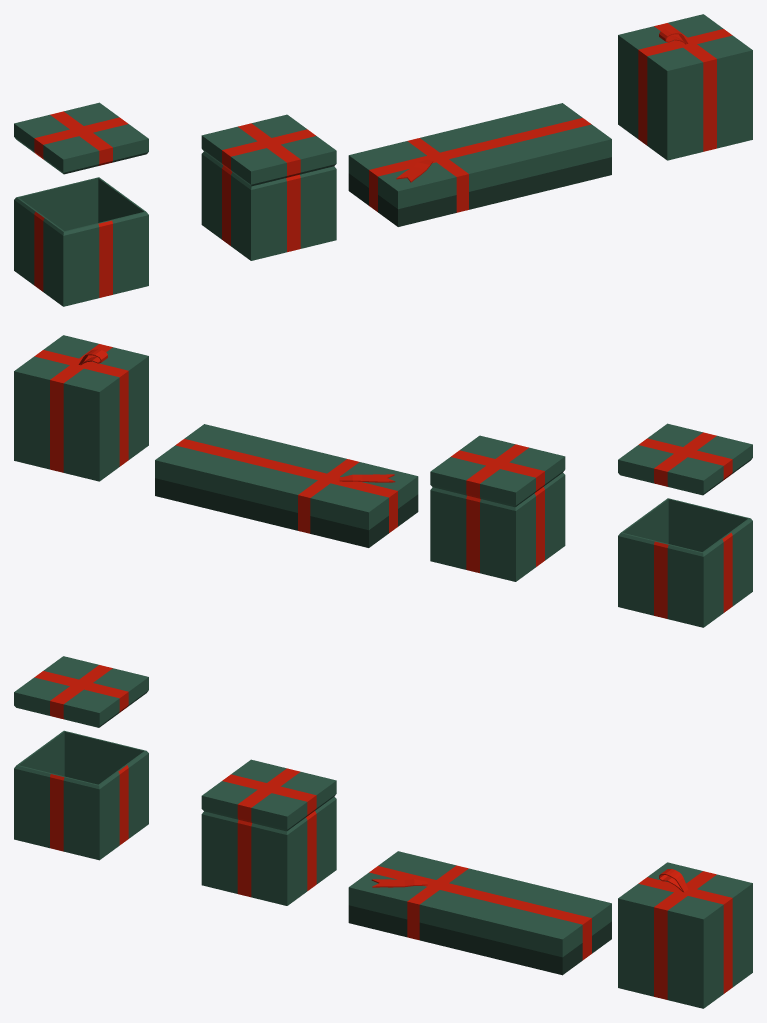
File: Pakjes.glb
3 renders of one model, top to bottom at view 1: azimuth 30°, elevation 25°; view 2: azimuth 150°, elevation 25°; view 3: azimuth 330°, elevation 25°, orthographic.
Parts seen in each view (by area): view 1: Pakje-1-5x2x08, Pakje-2-2x2x2, Pakje-1-2x2x2, Pakje-3-1x1x165, Pakje-3-lid-1; view 2: Pakje-1-5x2x08, Pakje-2-2x2x2, Pakje-1-2x2x2, Pakje-3-1x1x165, Pakje-3-lid-1; view 3: Pakje-1-5x2x08, Pakje-2-2x2x2, Pakje-1-2x2x2, Pakje-3-1x1x165, Pakje-3-lid-1.
Boxes of the visible parts, x1,y1,x2,y2 form: Pakje-1-5x2x08: [348, 103, 611, 226]; Pakje-2-2x2x2: [201, 114, 336, 260]; Pakje-1-2x2x2: [618, 14, 752, 160]; Pakje-3-1x1x165: [14, 177, 148, 306]; Pakje-3-lid-1: [14, 102, 148, 174]; Pakje-1-5x2x08: [155, 424, 418, 547]; Pakje-2-2x2x2: [430, 435, 565, 581]; Pakje-1-2x2x2: [14, 335, 148, 481]; Pakje-3-1x1x165: [618, 498, 752, 627]; Pakje-3-lid-1: [618, 423, 752, 495]; Pakje-1-5x2x08: [348, 851, 611, 975]; Pakje-2-2x2x2: [201, 759, 336, 905]; Pakje-1-2x2x2: [618, 862, 752, 1008]; Pakje-3-1x1x165: [14, 730, 148, 860]; Pakje-3-lid-1: [14, 656, 148, 727].
Bounding box in the file's own units: 16.12 × 3.33 × 2.
